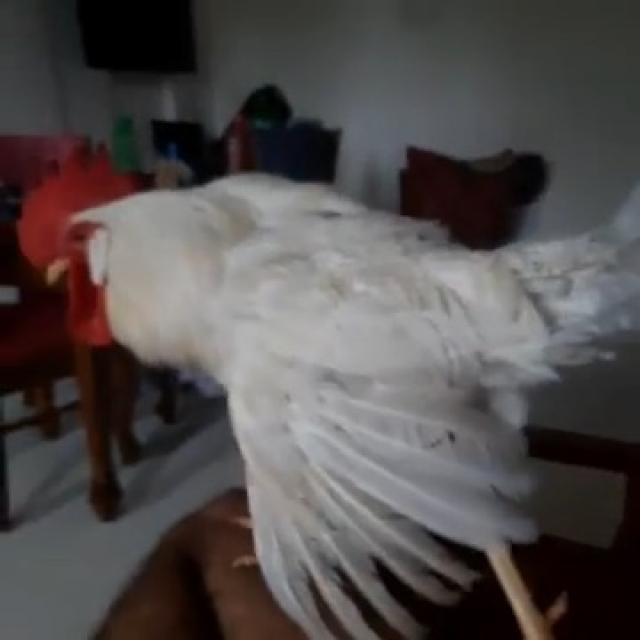wing and leg stretching: (0, 146, 640, 633)
